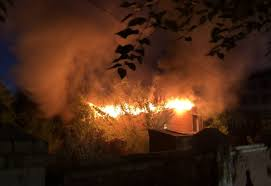fire: (77, 73, 203, 125)
